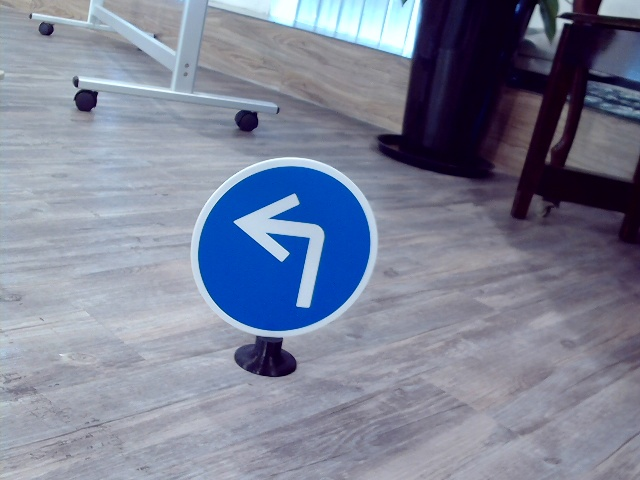turn_left: (235, 197, 331, 310)
